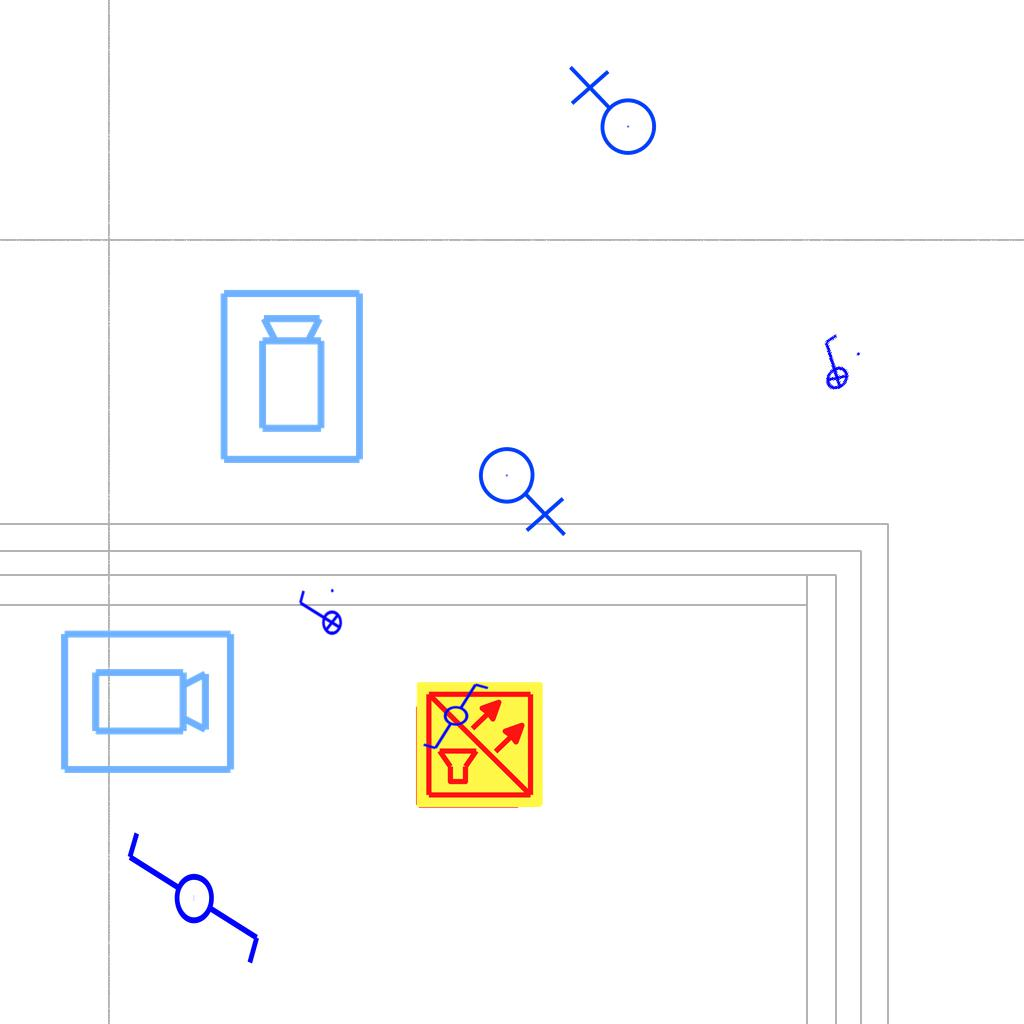Ausschalter_beleuchtet: (796, 326, 870, 400), (295, 586, 343, 642)
Elektroanschluss_allgemein_230V_Geraeteanschlussdose_230V: (564, 65, 658, 164), (477, 438, 571, 537)
KFO_Kamera_mit_Festobjektiv: (56, 626, 238, 780), (216, 286, 370, 468)
OKW_Multisensormelder_(Kombination_optischer_Rauch-Kahlenmonoxid_Waerme-Melder): (414, 679, 546, 811)
Wechselschalter: (120, 828, 264, 985), (421, 681, 499, 753)
